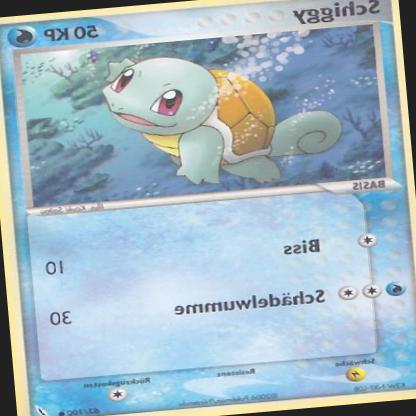Squirtle: (89, 40, 342, 197)
